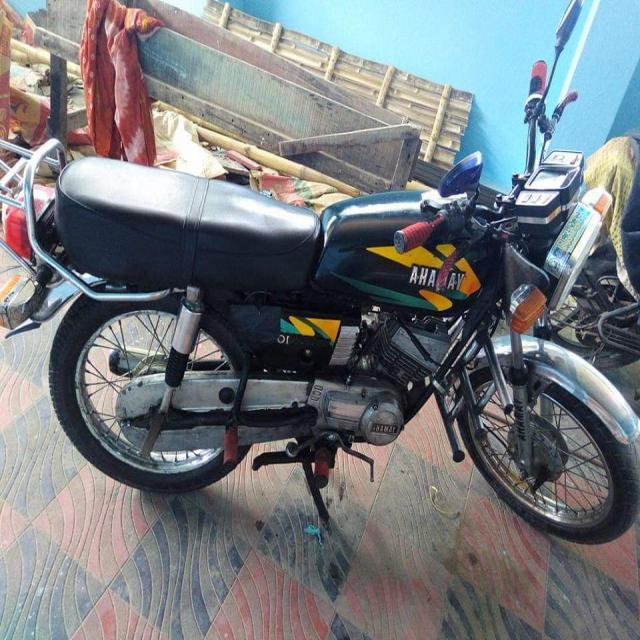Motorbike: (2, 50, 640, 579)
